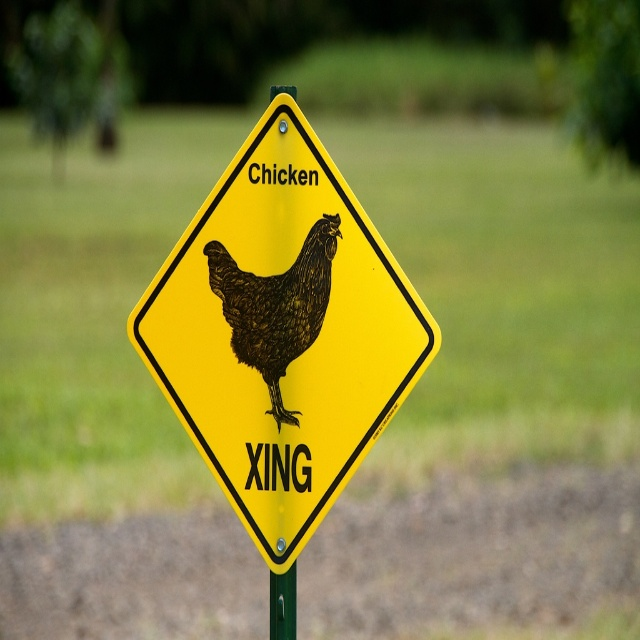Chicken: (206, 202, 332, 447)
